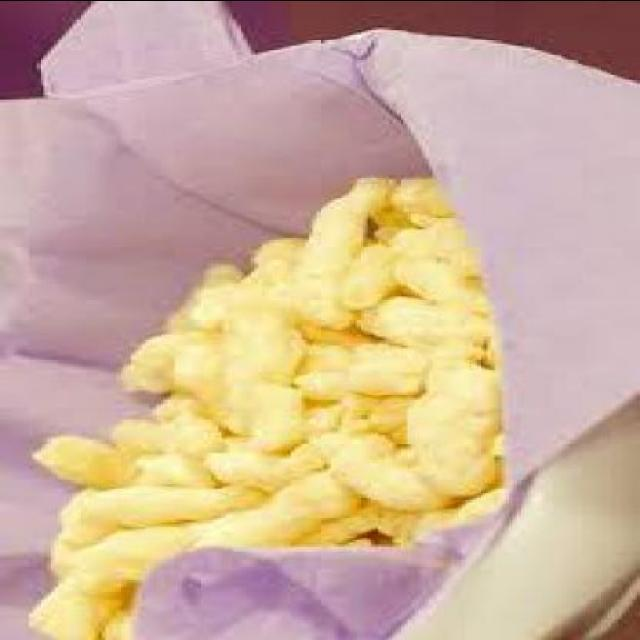Chips packaged: (3, 172, 531, 630)
